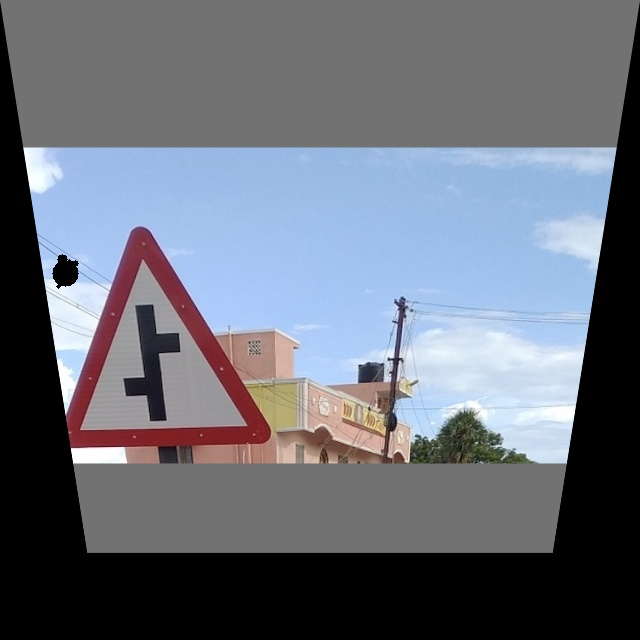Staggered_Intersection: (46, 230, 259, 445)
